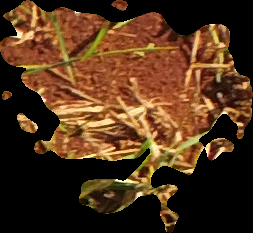soil: (1, 1, 253, 231)
